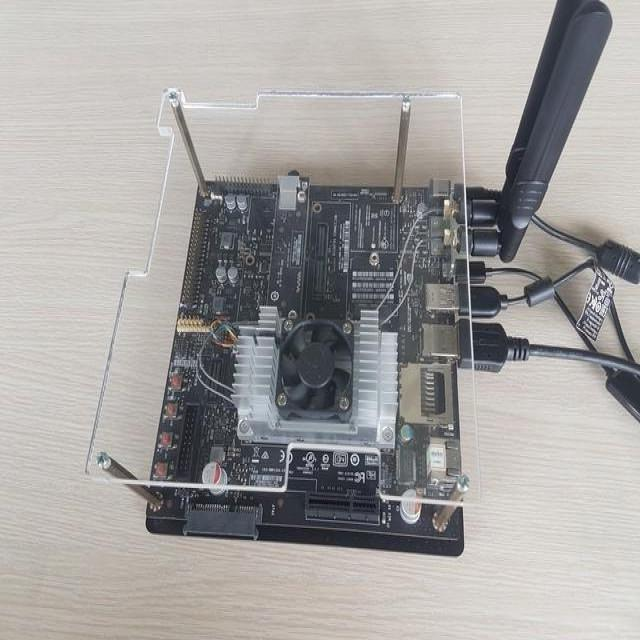Jetson TX2: (146, 1, 612, 559)
